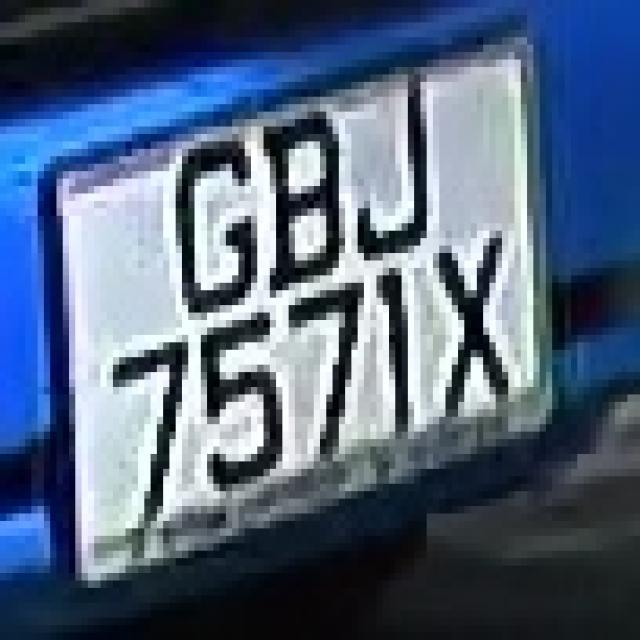1: (345, 246, 427, 484)
5: (194, 312, 288, 514)
7: (94, 335, 188, 551), (276, 290, 370, 477)
B: (251, 111, 364, 312)
G: (150, 112, 264, 335)
J: (345, 59, 458, 246)
X: (414, 231, 533, 439)
